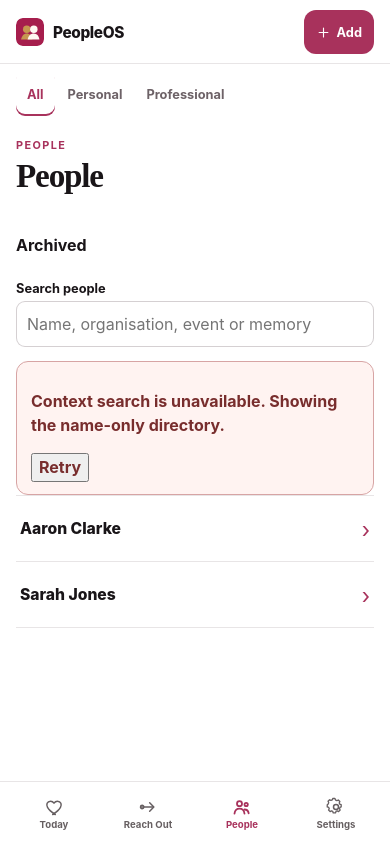
Test: V1-11 People search and filters UI › keeps archived People available in the name-only fallback
Expected: the text "Showing the name-only directory" is shown, [31,392,337,435]
Click the button "Archived" at (51, 246), box [16,224,87,268]
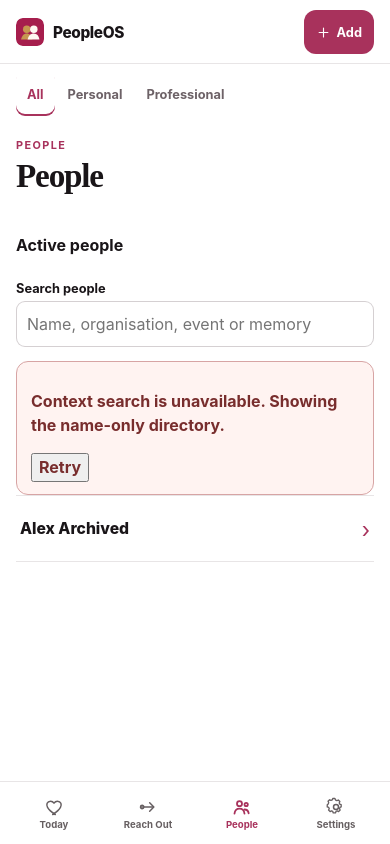
Expected: the text "Alex Archived" is shown, [20,519,129,538]
Expected: the link "Sarah Jones" is gone
